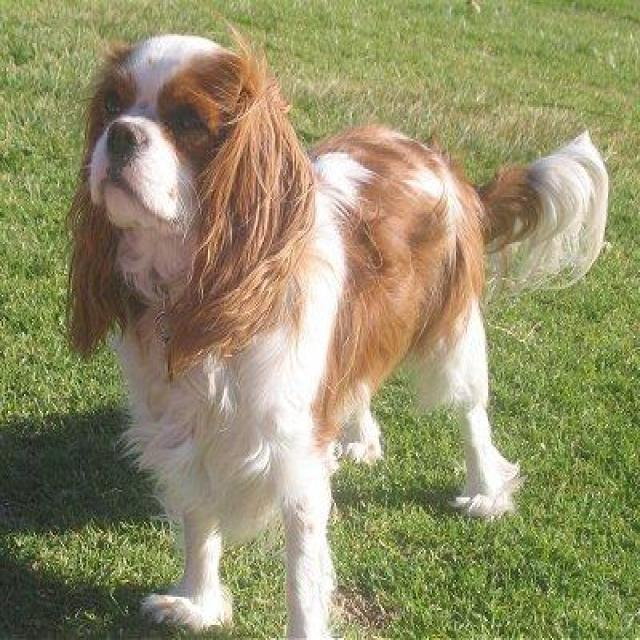blenheim_spaniel: (61, 26, 614, 638)
